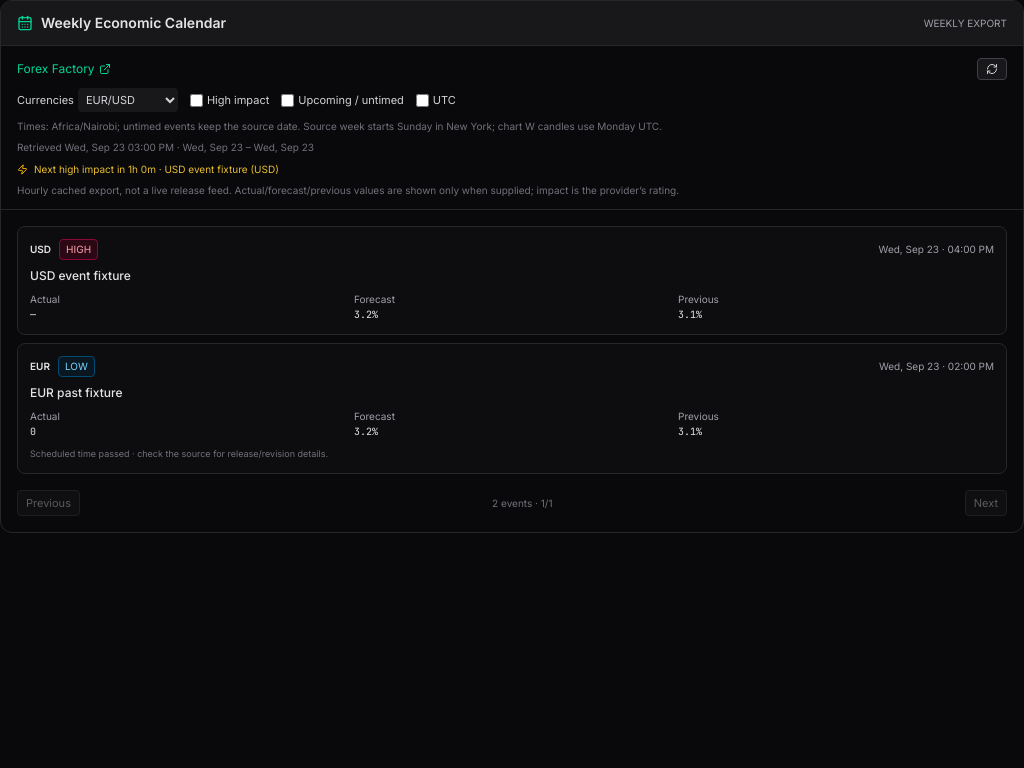
Test: default Forex Factory fundamentals panel › converts scheduled instants to the viewer’s Nairobi timezone without changing source timestamps
Click the checkbox labelled "UTC" at (422, 100), box left=416, top=94, right=429, bottom=106
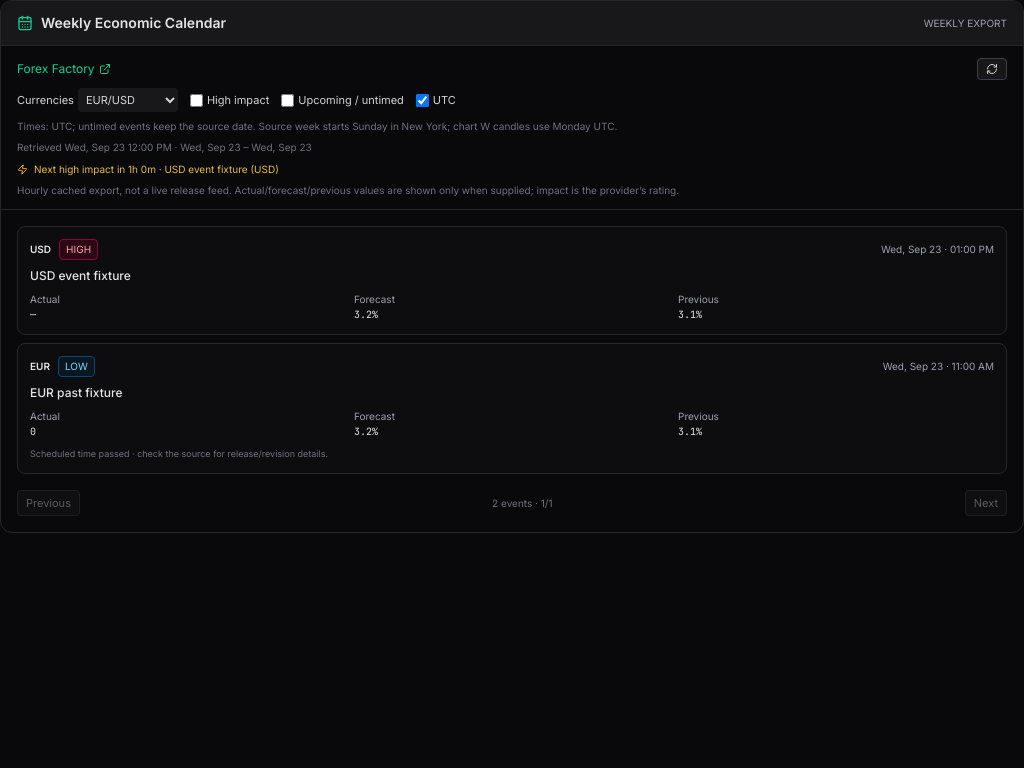
Check: the text "Times: UTC" is shown, box left=17, top=120, right=617, bottom=132
